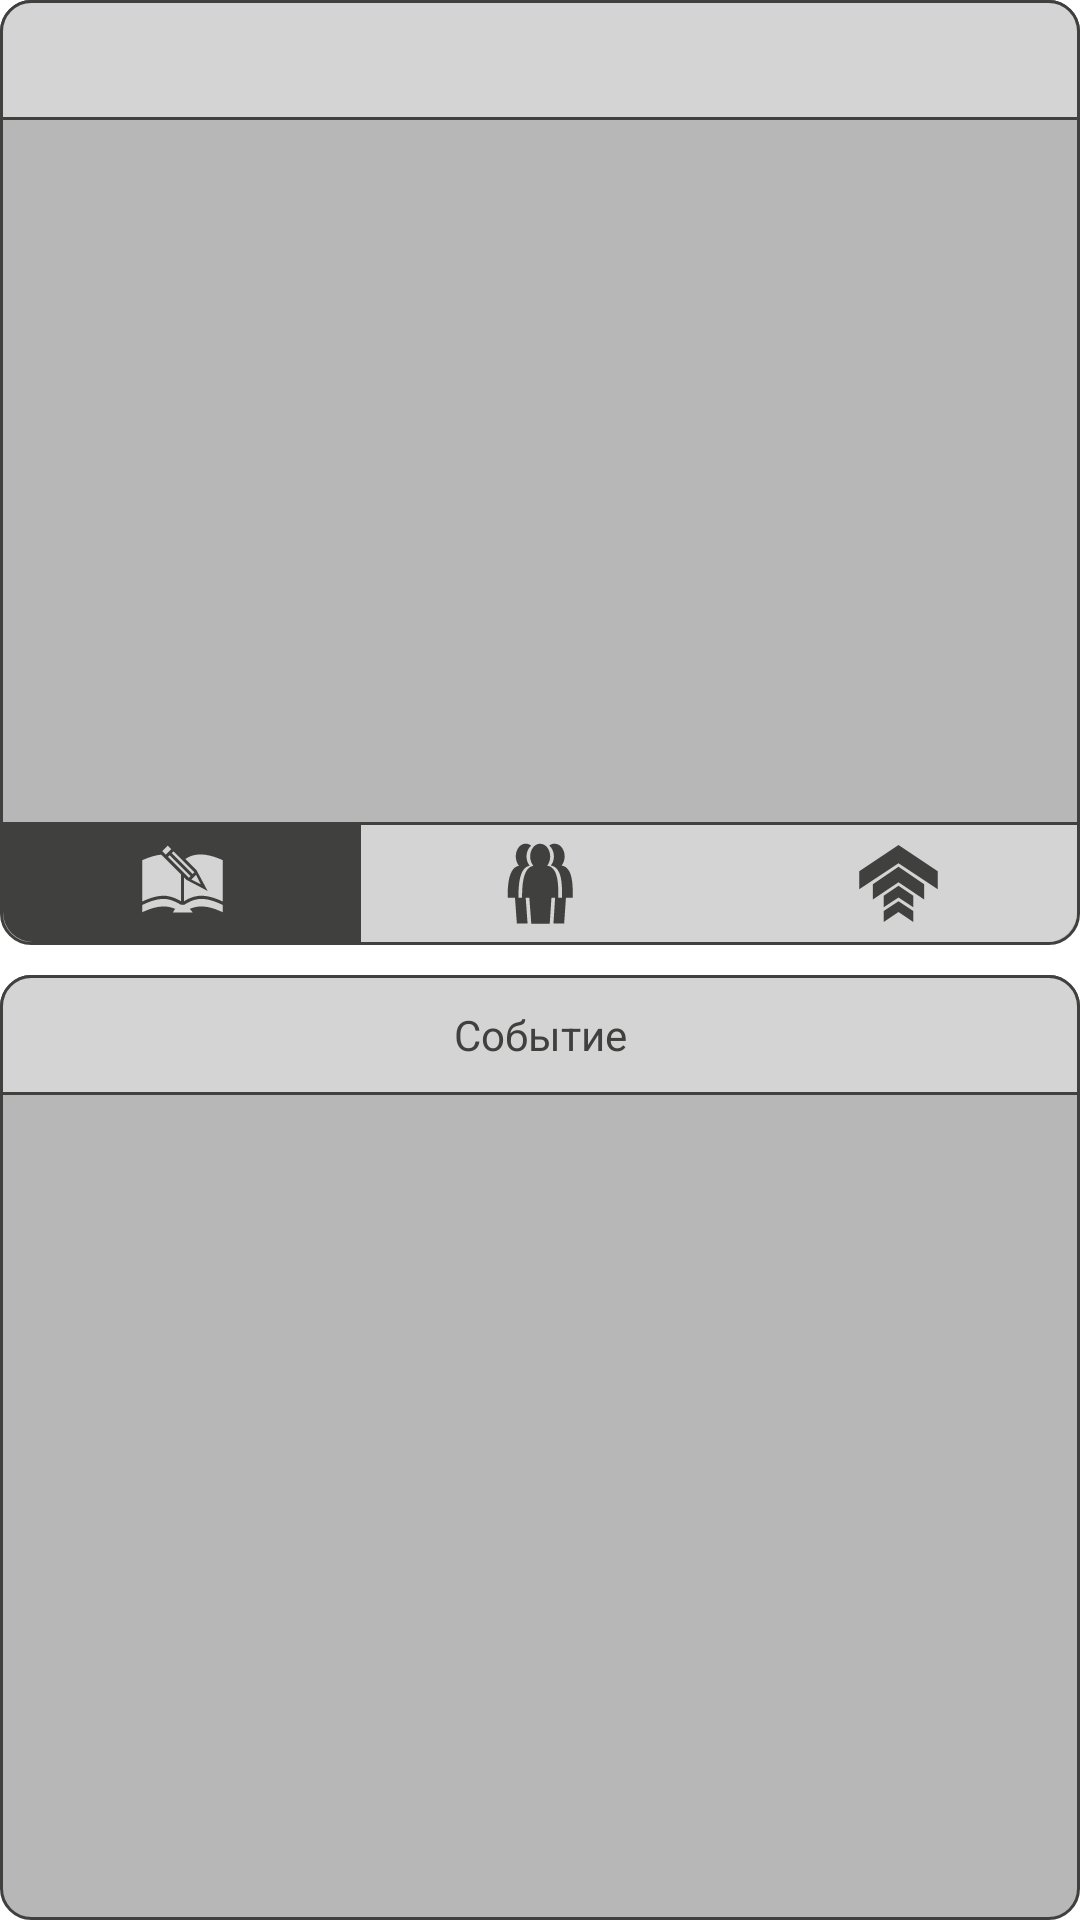

Named icons in this screenshot (1080w x 1920h) and their centers, [x,y]:
events: [113,894]
improvements: [898,883]
survivors: [540,883]
